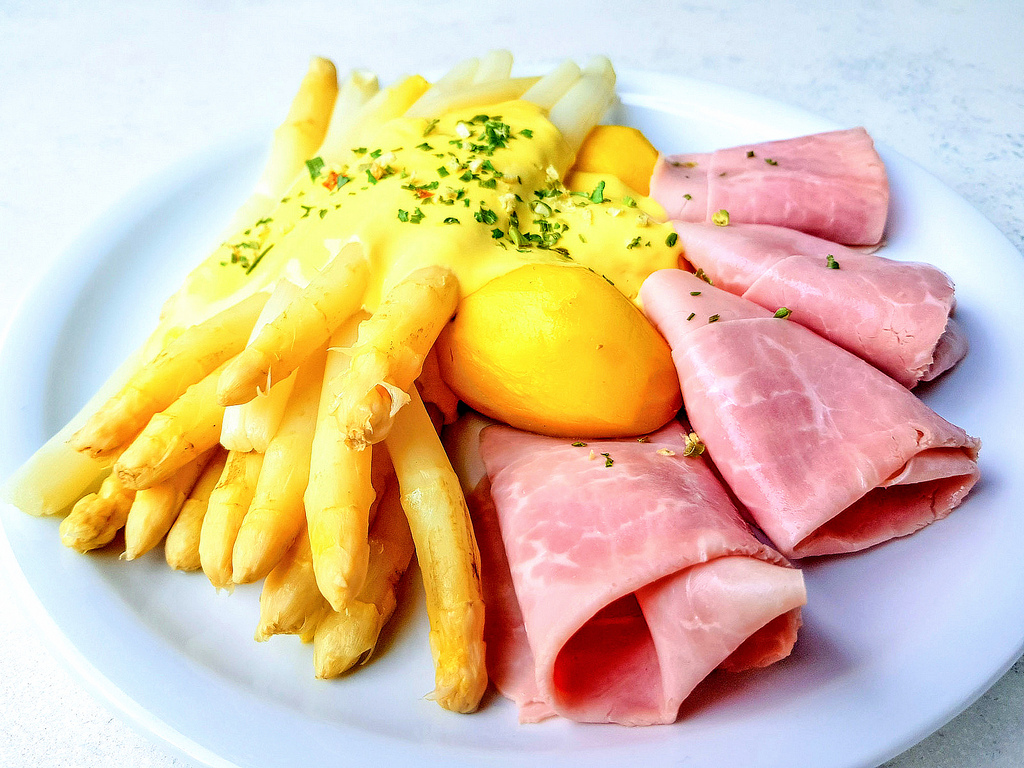boiled potatoes: (460, 273, 690, 446)
